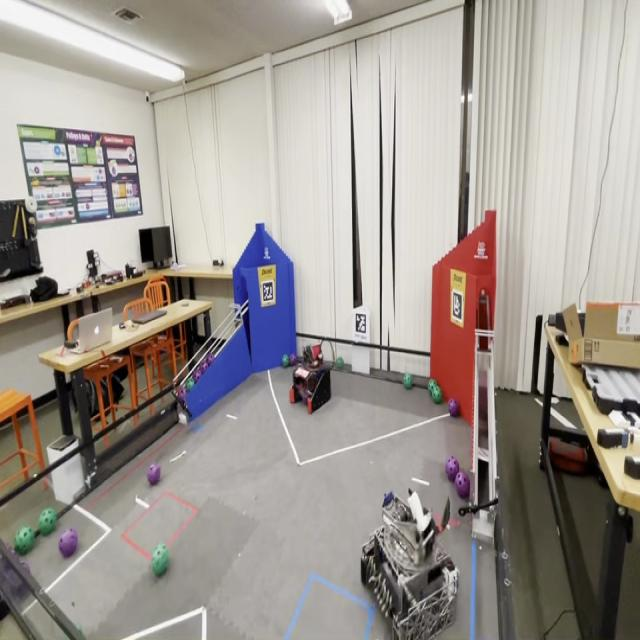artifact_green: (0, 559, 27, 598), (14, 527, 35, 555), (152, 544, 169, 577), (38, 508, 57, 535), (0, 558, 12, 581), (432, 386, 442, 404), (176, 386, 186, 404), (193, 366, 203, 382), (185, 377, 195, 392), (205, 352, 215, 367), (403, 374, 412, 389), (428, 383, 439, 395), (429, 384, 439, 397), (428, 379, 437, 393), (281, 355, 290, 369), (336, 357, 344, 369), (290, 354, 297, 366), (76, 625, 83, 637), (77, 625, 83, 634), (77, 625, 82, 632)
artifact_purple: (4, 568, 27, 597), (59, 528, 77, 558), (455, 471, 470, 498), (445, 456, 459, 481), (147, 464, 160, 485), (0, 558, 11, 579), (448, 399, 459, 417), (177, 387, 186, 402), (193, 367, 201, 382), (200, 358, 208, 373), (206, 352, 214, 366), (198, 362, 205, 376), (290, 354, 296, 365)
